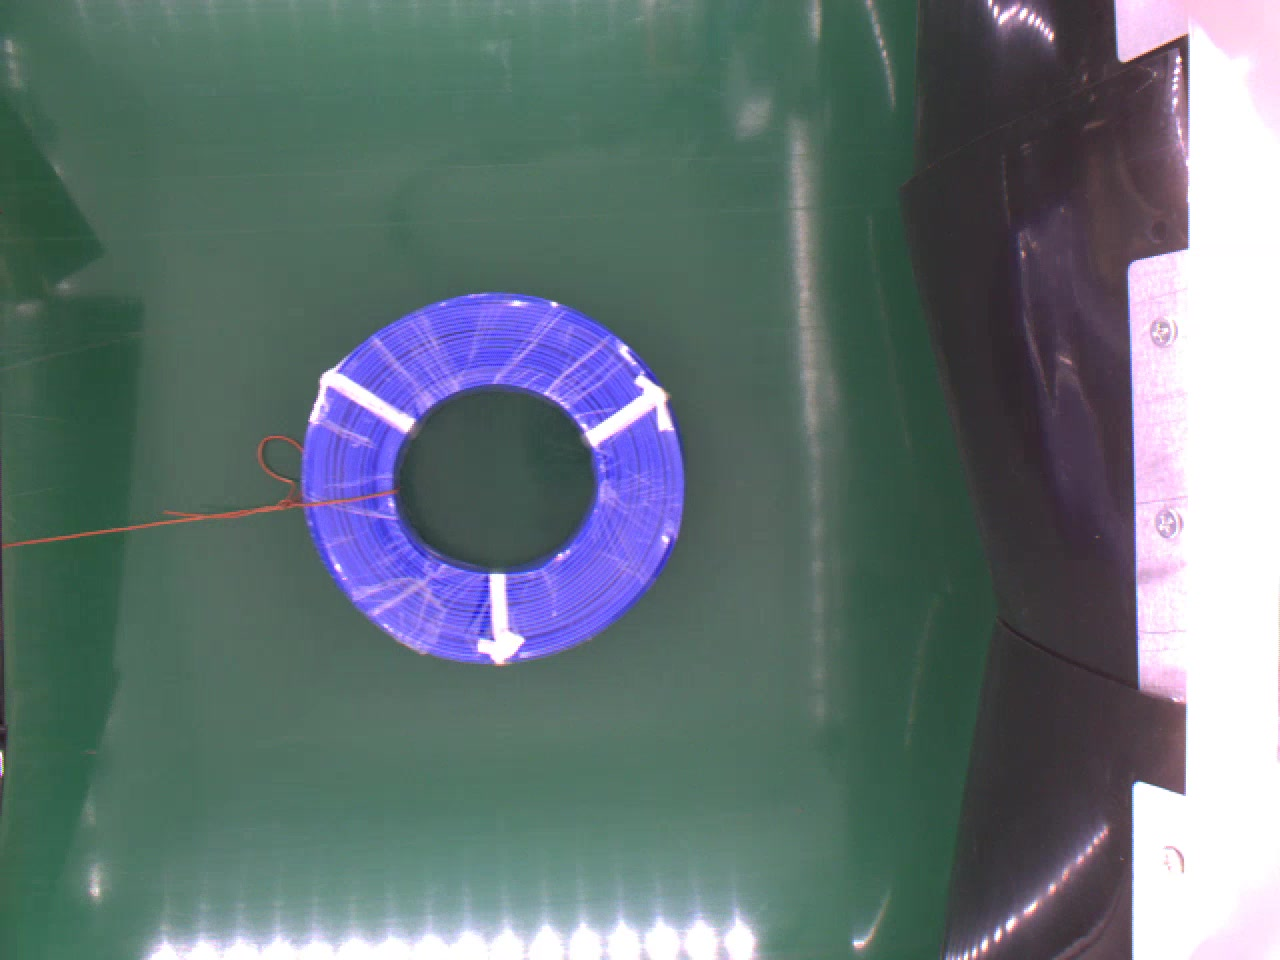blue: (296, 289, 687, 667)
